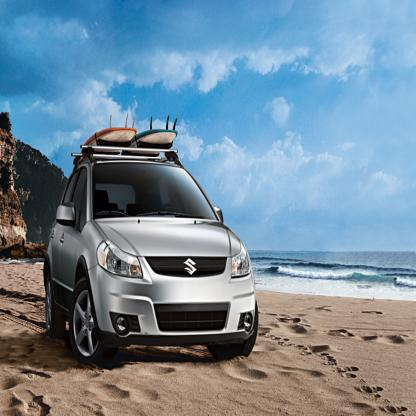Vehicle: (41, 112, 260, 366)
